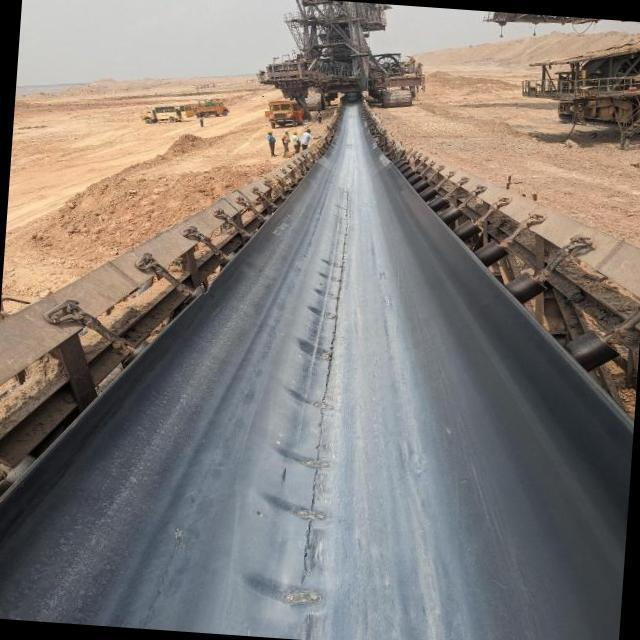Tear: (290, 182, 366, 640)
